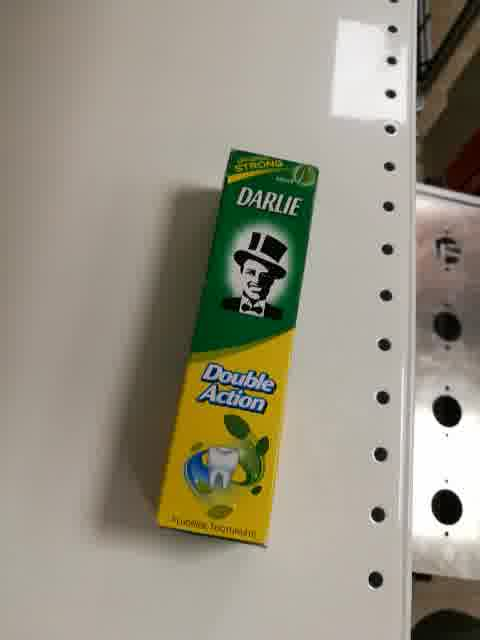toothpaste: (153, 146, 321, 552)
